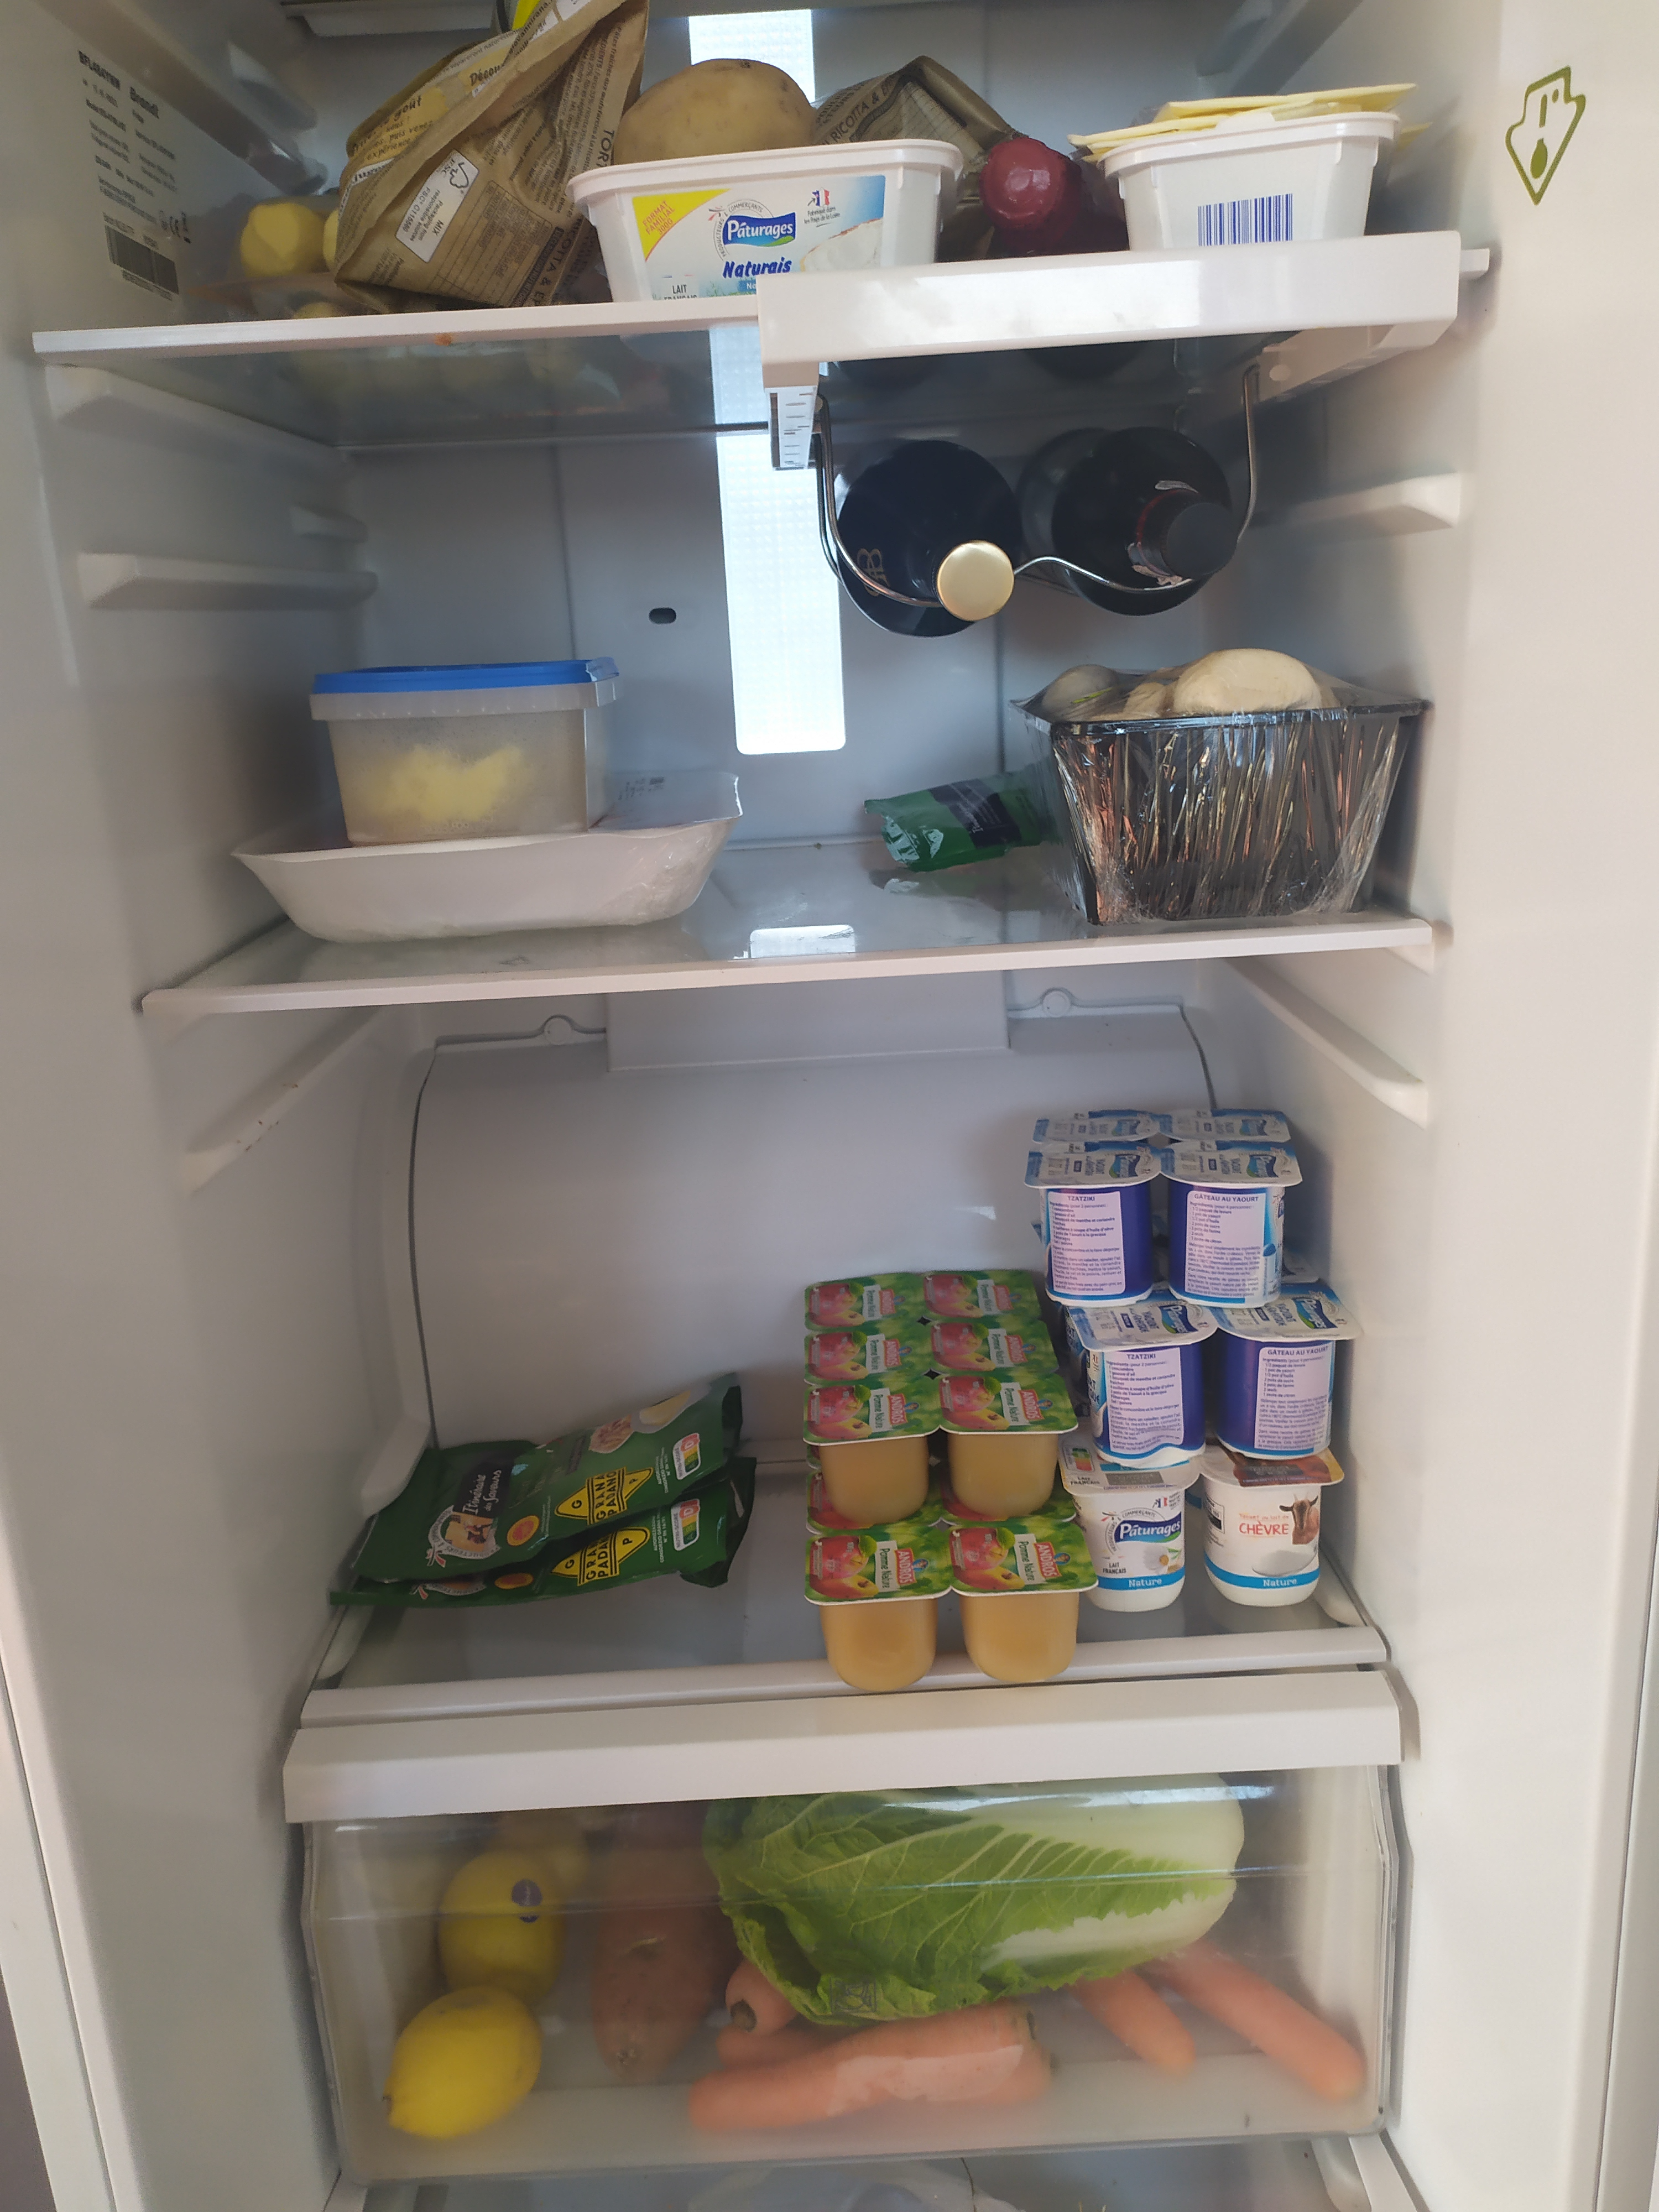bottle: (1012, 420, 1241, 618), (828, 428, 1032, 634)
carrot: (692, 2019, 1058, 2135), (1148, 1940, 1380, 2104), (1063, 1956, 1215, 2064), (720, 1933, 814, 2034)
compote: (936, 1521, 1093, 1686), (800, 1522, 943, 1691), (941, 1369, 1065, 1519), (812, 1385, 943, 1508), (915, 1261, 1051, 1336), (805, 1268, 932, 1343), (936, 1318, 1072, 1385), (812, 1320, 939, 1378)
lemon: (387, 1977, 537, 2139), (436, 1843, 563, 1984)
mushroom: (1012, 657, 1420, 928)
yoghurt: (1162, 1146, 1307, 1320), (1201, 1444, 1342, 1618), (1206, 1278, 1347, 1451), (1077, 1296, 1206, 1482), (1065, 1435, 1192, 1606), (1026, 1146, 1155, 1305), (1164, 1099, 1293, 1158), (1033, 1106, 1176, 1150)
